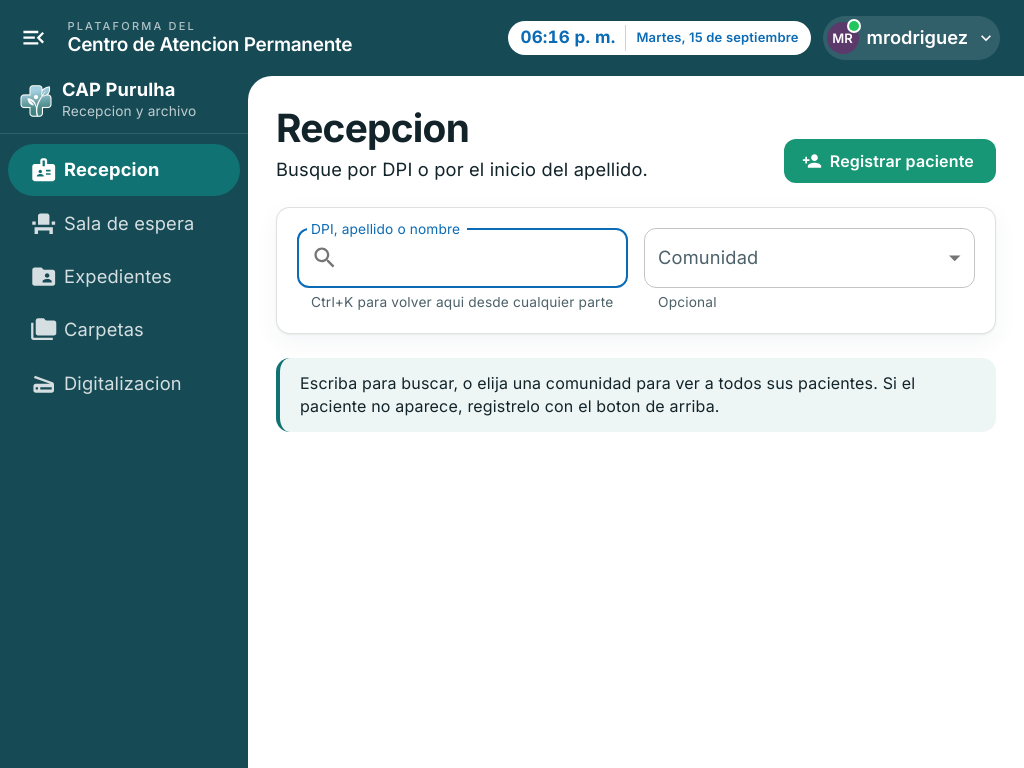
busqueda de recepcion › sin resultados ofrece registrar al paciente
The width and height of the screenshot is (1024, 768).
Type "Xyz" into the field labelled "DPI, apellido o nombre" at (487, 258), box x1=346 y1=228 x2=628 y2=288
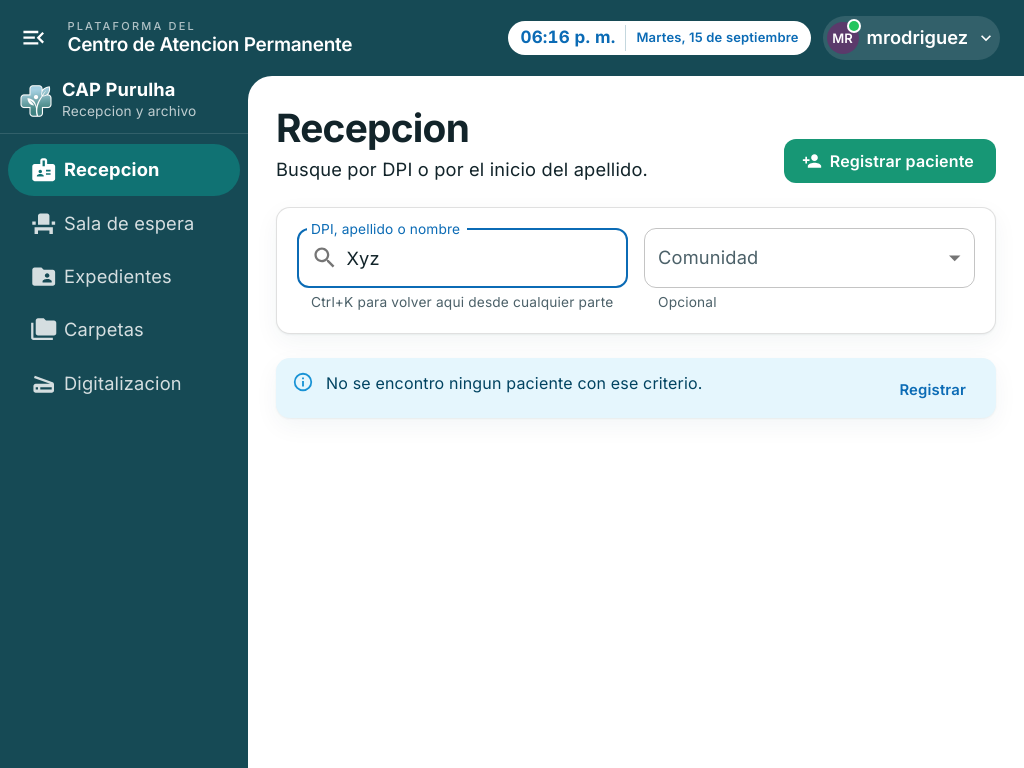
Result: the text "No se encontro ningun paciente con ese criterio." is shown at x1=326 y1=374 x2=702 y2=394
Result: the link "Registrar" is shown at x1=899 y1=382 x2=966 y2=400
